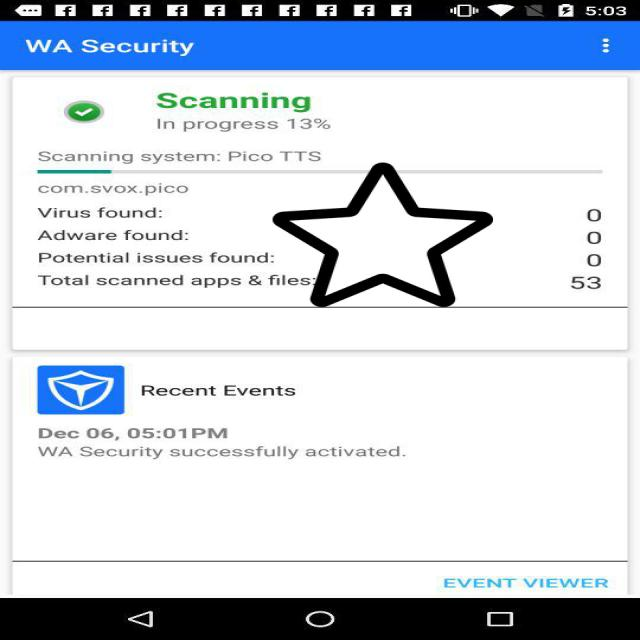forced continuity: (273, 159, 493, 310)
